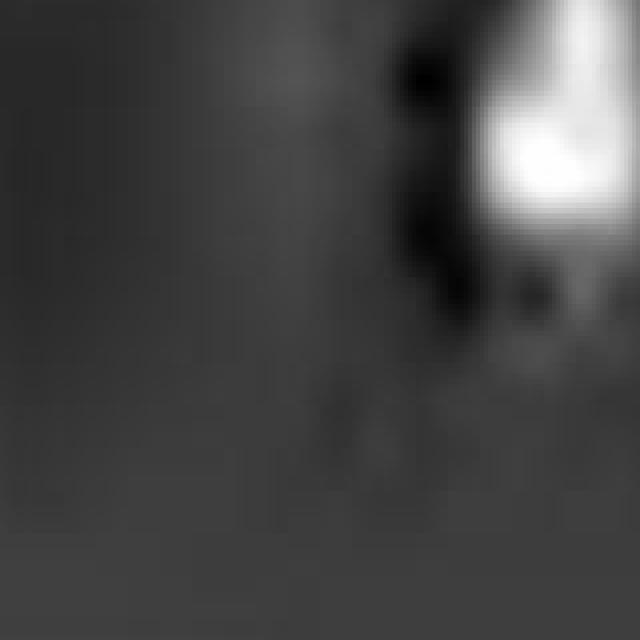person: (469, 1, 640, 380)
